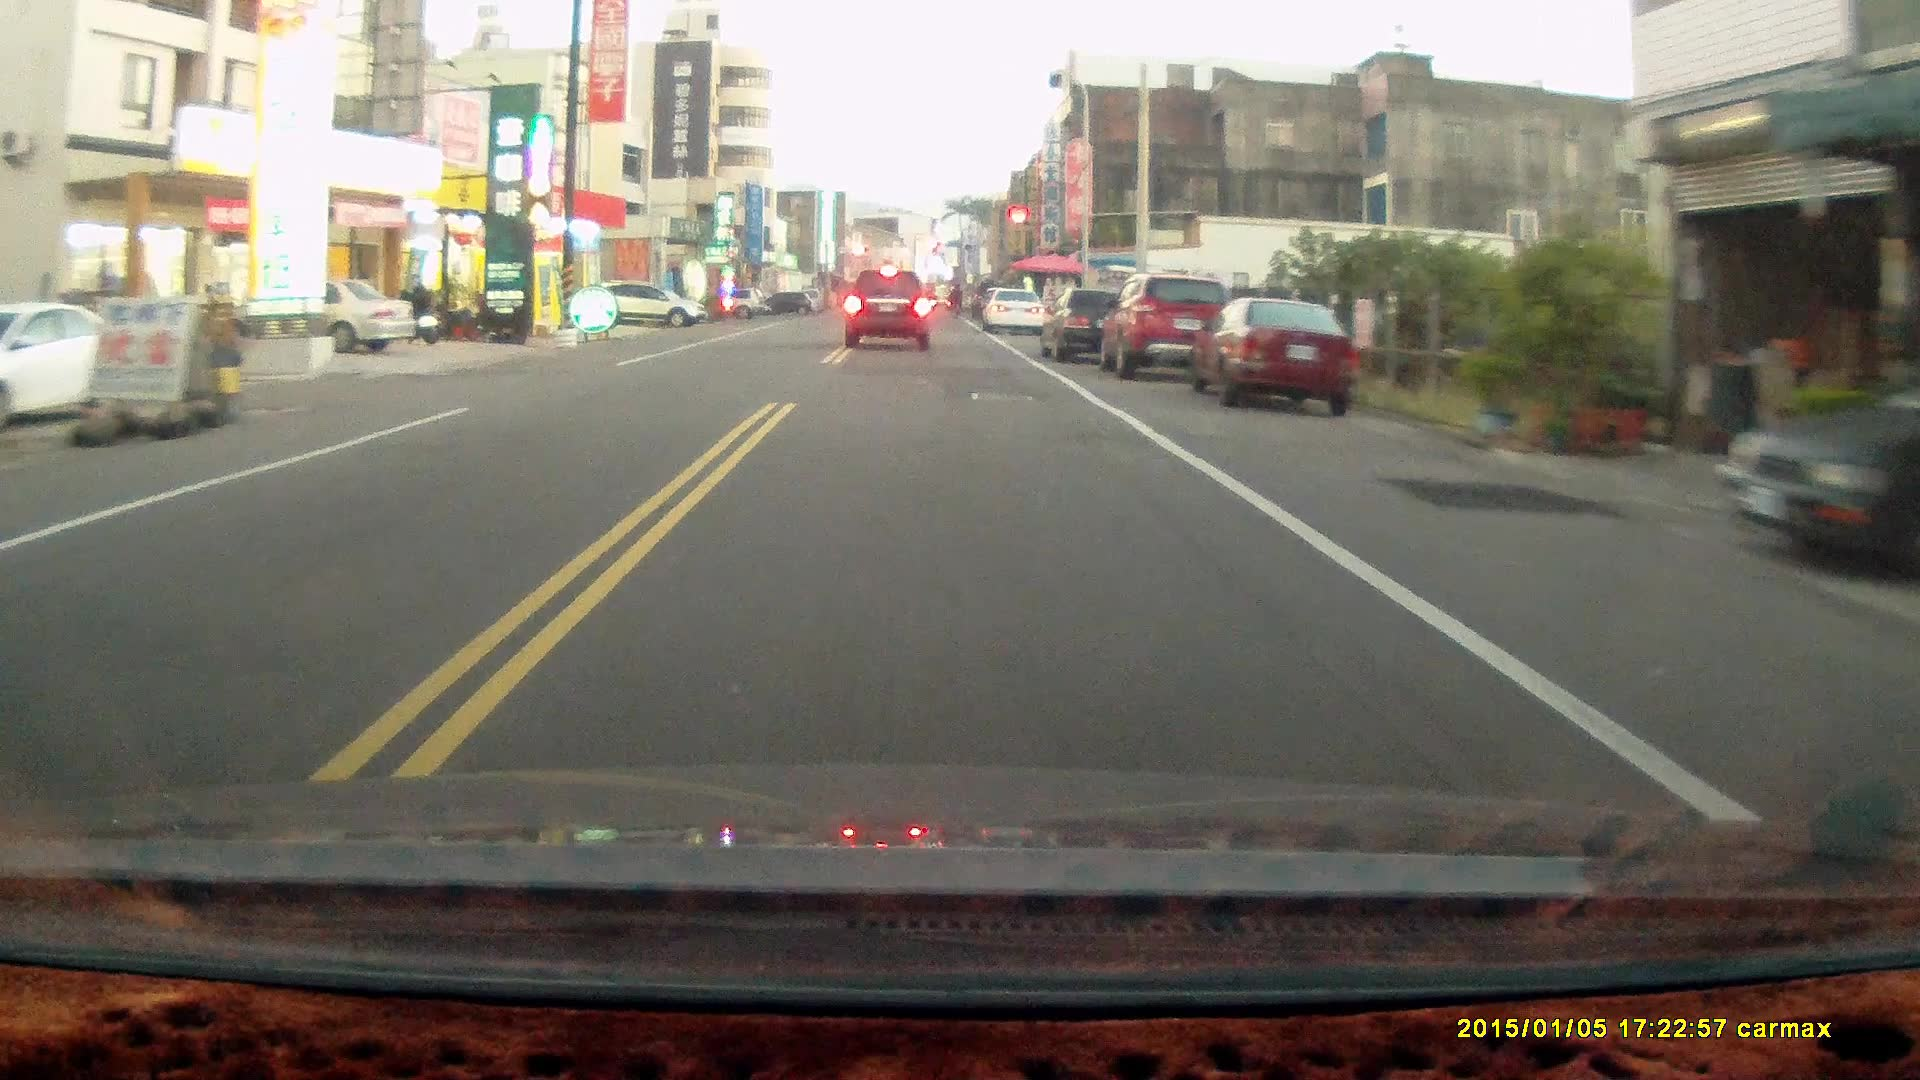vehicle: (1716, 355, 1919, 582), (1187, 299, 1365, 418), (1, 301, 153, 429), (1102, 276, 1237, 382), (233, 278, 417, 356), (1040, 291, 1155, 367), (844, 272, 934, 355), (600, 281, 702, 328), (982, 289, 1048, 339)
